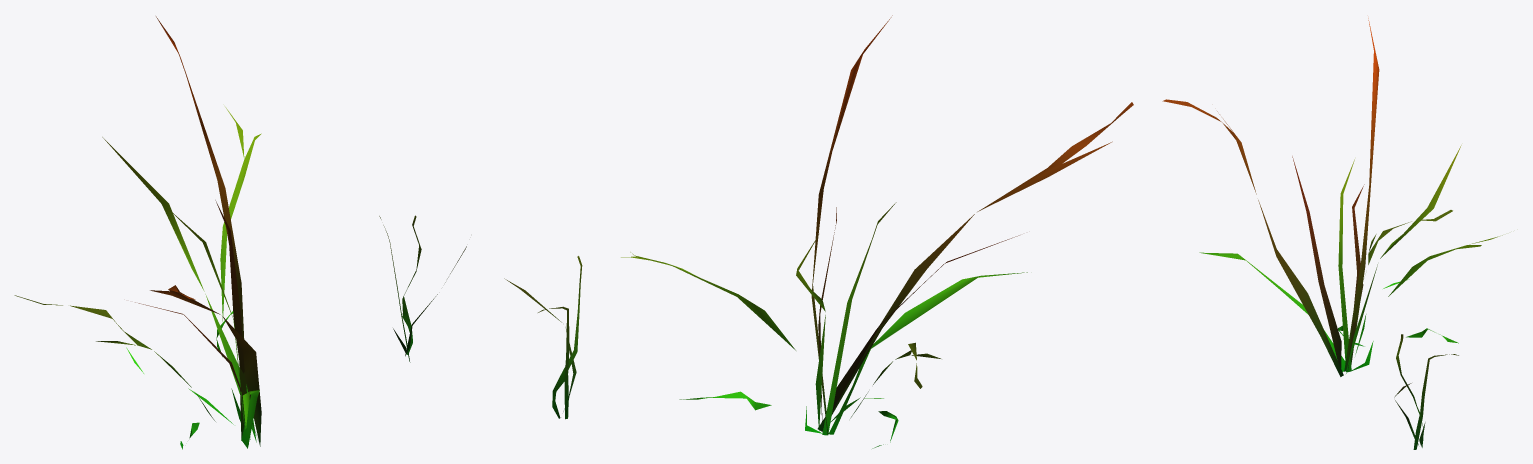
File: SM_OW_GrassTuft_a_LOD2.fbx
3 views of the same model, side by side, from view 1: azimuth 30°, elevation 25°; view 2: azimuth 150°, elevation 25°; view 3: azimuth 270°, elevation 25° (orthographic). The views are drawn at different scales.
Visible parts, largest first — view 1: SM_OW_GrassTuft_a_LOD2; view 2: SM_OW_GrassTuft_a_LOD2; view 3: SM_OW_GrassTuft_a_LOD2.
Boxes of the visible parts, x1,y1,x2,y2 form: SM_OW_GrassTuft_a_LOD2: [14, 16, 466, 449]; SM_OW_GrassTuft_a_LOD2: [504, 15, 1133, 448]; SM_OW_GrassTuft_a_LOD2: [1162, 18, 1502, 449].
Size of the model in its own units: 0.4713 by 0.4314 by 0.4207.
